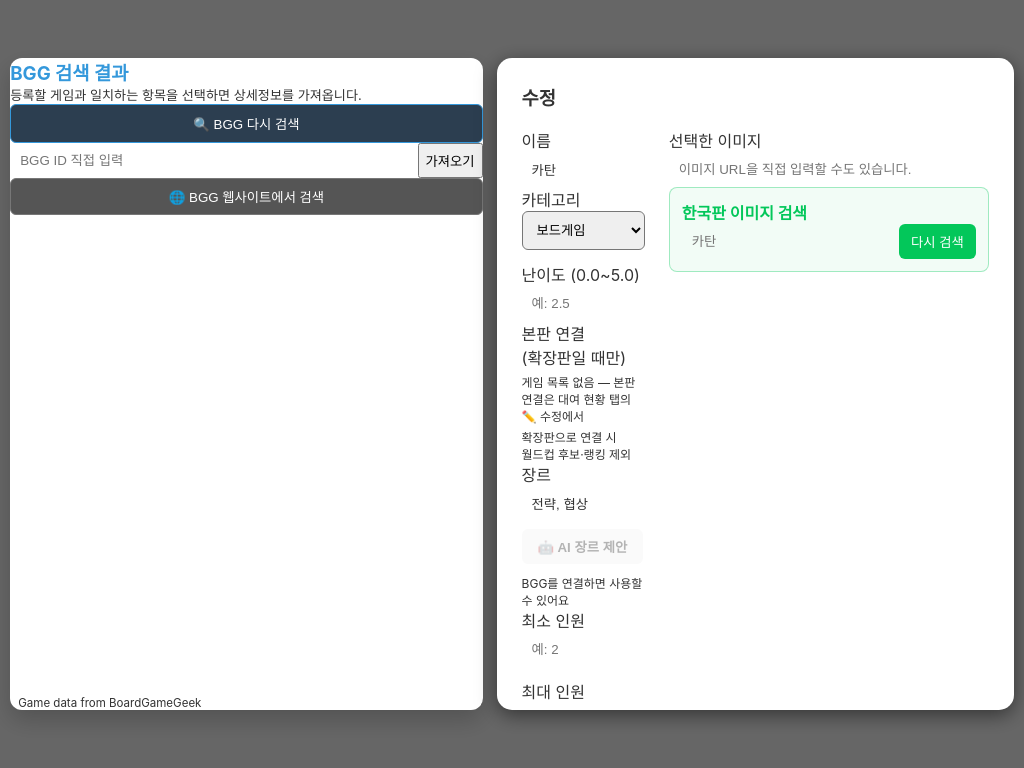
Test: 관리자 게임 폼 — AI 장르 제안 › BGG 정보를 불러와도 운영자 장르를 영문 카테고리로 덮어쓰지 않는다
Type "13" into the field labelled "BGG ID 직접 입력" at (210, 160), box [10,143,410,178]
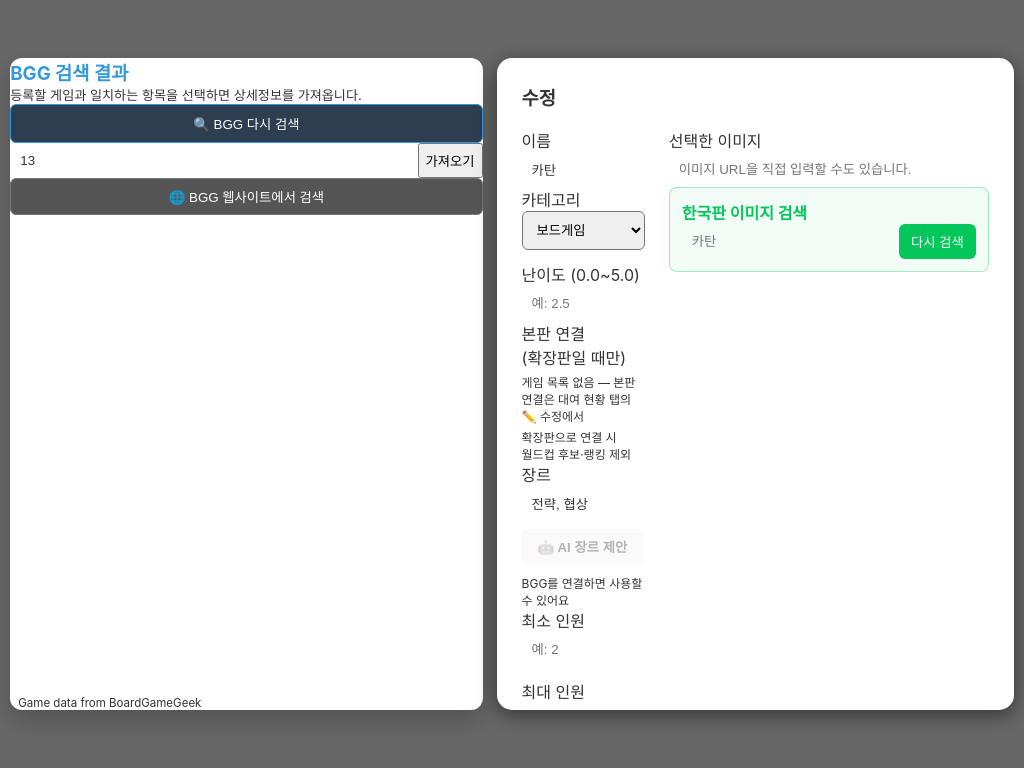
Click the button "가져오기" at (450, 160), box [418,143,483,178]
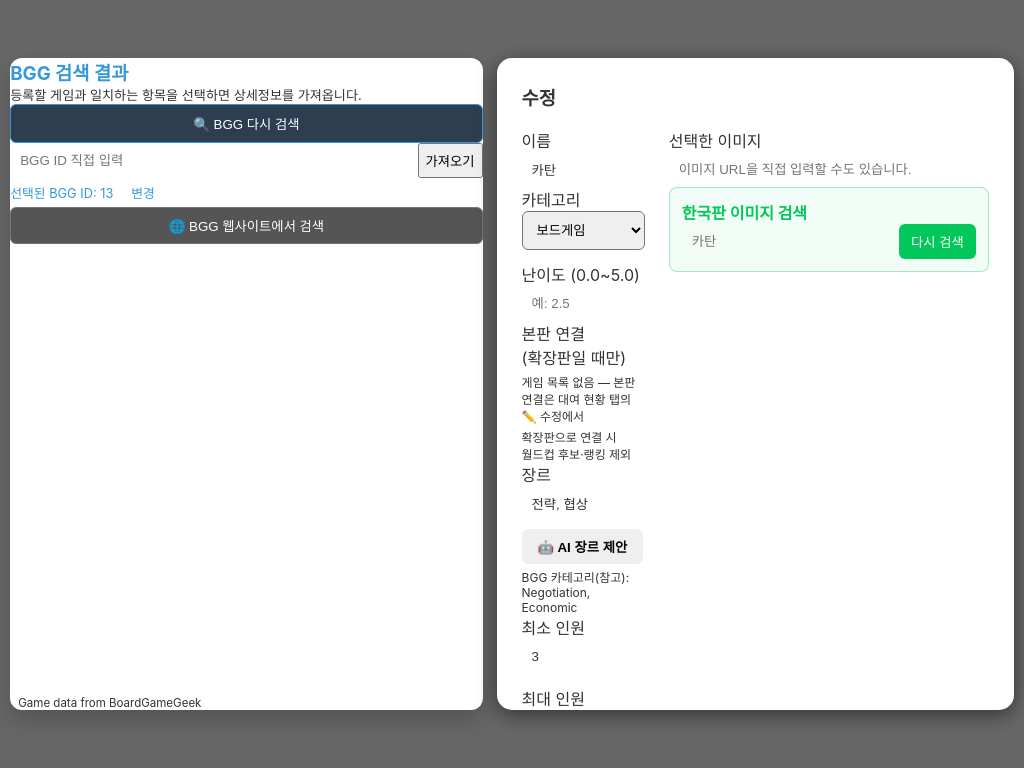
Expected: the 2nd field with placeholder "예: 전략, 추리, 파티" holds "전략, 협상", [522,486,645,521]
Expected: the text "BGG 카테고리(참고): Negotiation, Economic" is shown, [522,568,645,615]
